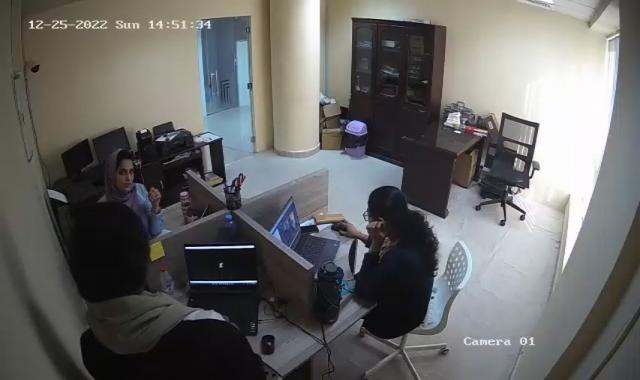no_hairnet: (71, 202, 150, 293), (366, 184, 408, 236), (105, 148, 136, 194)
